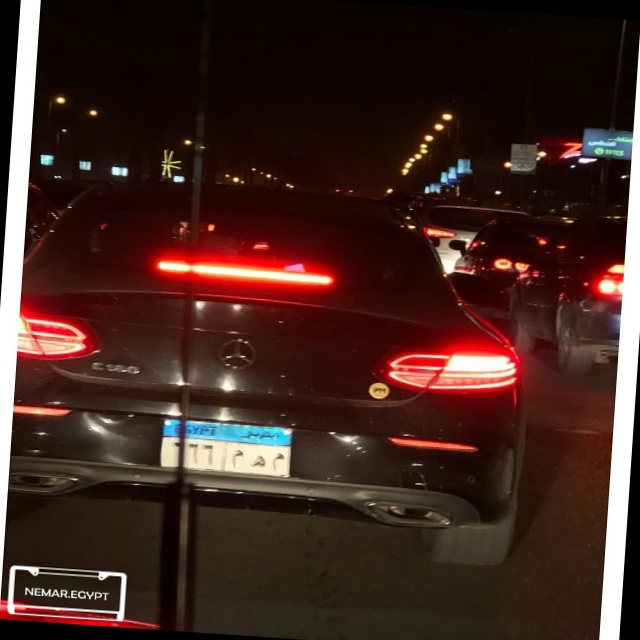License Plate: (155, 413, 300, 481)
